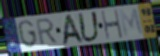A: (60, 13, 85, 46)
G: (17, 19, 39, 49)
H: (100, 8, 125, 41)
M: (118, 7, 146, 39)
R: (35, 17, 60, 48)
U: (77, 11, 101, 44)
